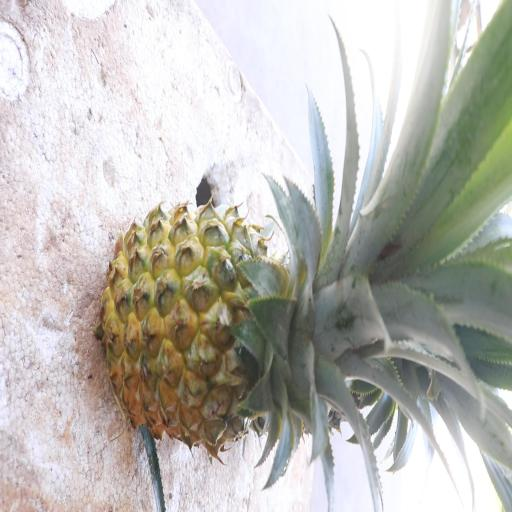Pineapple - v8 v1: (98, 198, 375, 469)
